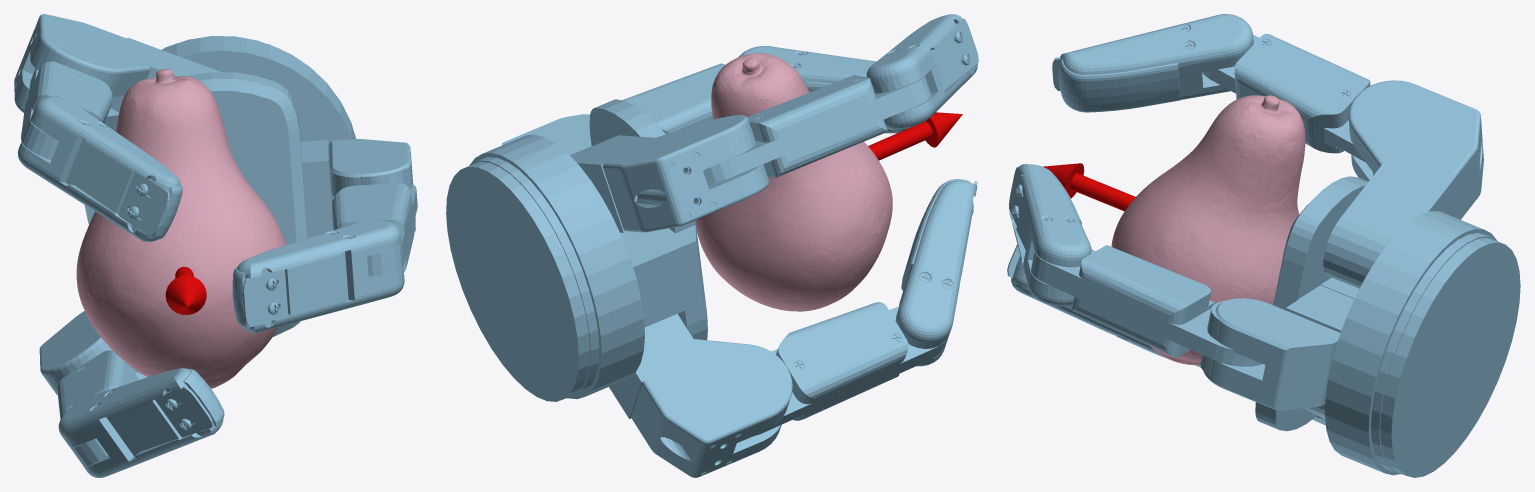
The picture shows the model from 3 angles, left to right: view 1: azimuth 30°, elevation 25°; view 2: azimuth 150°, elevation 25°; view 3: azimuth 270°, elevation 25°; orthographic projection. The views are drawn at different scales.
Parts seen in each view (by area): view 1: world, pear.stl; view 2: world, pear.stl; view 3: world, pear.stl.
Boxes of the visible parts, x1,y1,x2,y2 form: world: (14, 14, 417, 477); pear.stl: (76, 69, 286, 388); world: (446, 14, 978, 477); pear.stl: (695, 53, 892, 311); world: (1007, 14, 1520, 477); pear.stl: (1111, 95, 1305, 364).
Bounding box in the file's own units: 0.1553 × 0.1427 × 0.1733.
